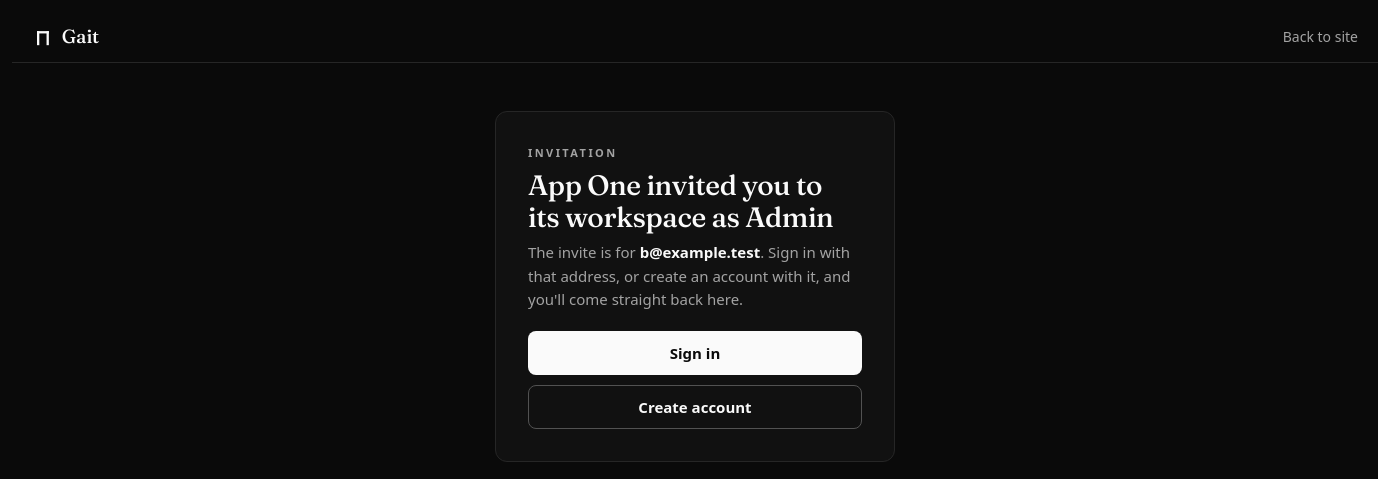
Test case: not signed in › shows company and role, and Sign in carries the allowlisted returnTo
Expected: the heading "App One invited you to its workspace as Admin" is shown, x1=528 y1=169 x2=862 y2=233
Expected: the text "b@example.test" is shown, x1=640 y1=242 x2=760 y2=262
Click the button "Sign in" at (695, 353), box x1=528 y1=331 x2=862 y2=375
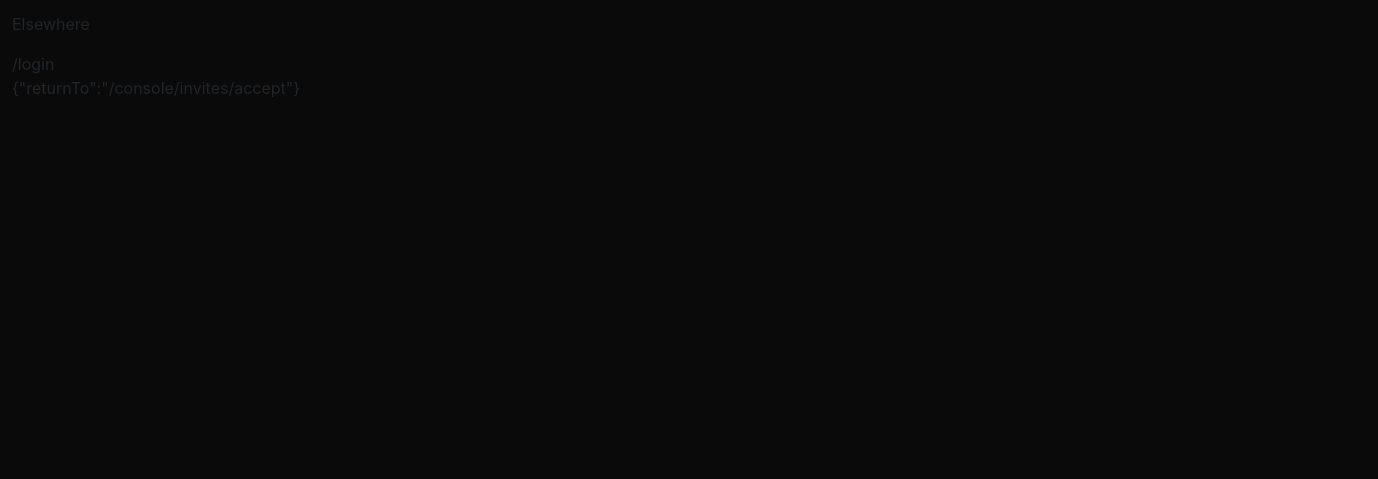
Now the text with test id "location" reads "/login", box x1=12 y1=54 x2=54 y2=74
Now the text with test id "state" reads "{\"returnTo\":\"/console/invites/accept\"}", box x1=12 y1=78 x2=300 y2=98
